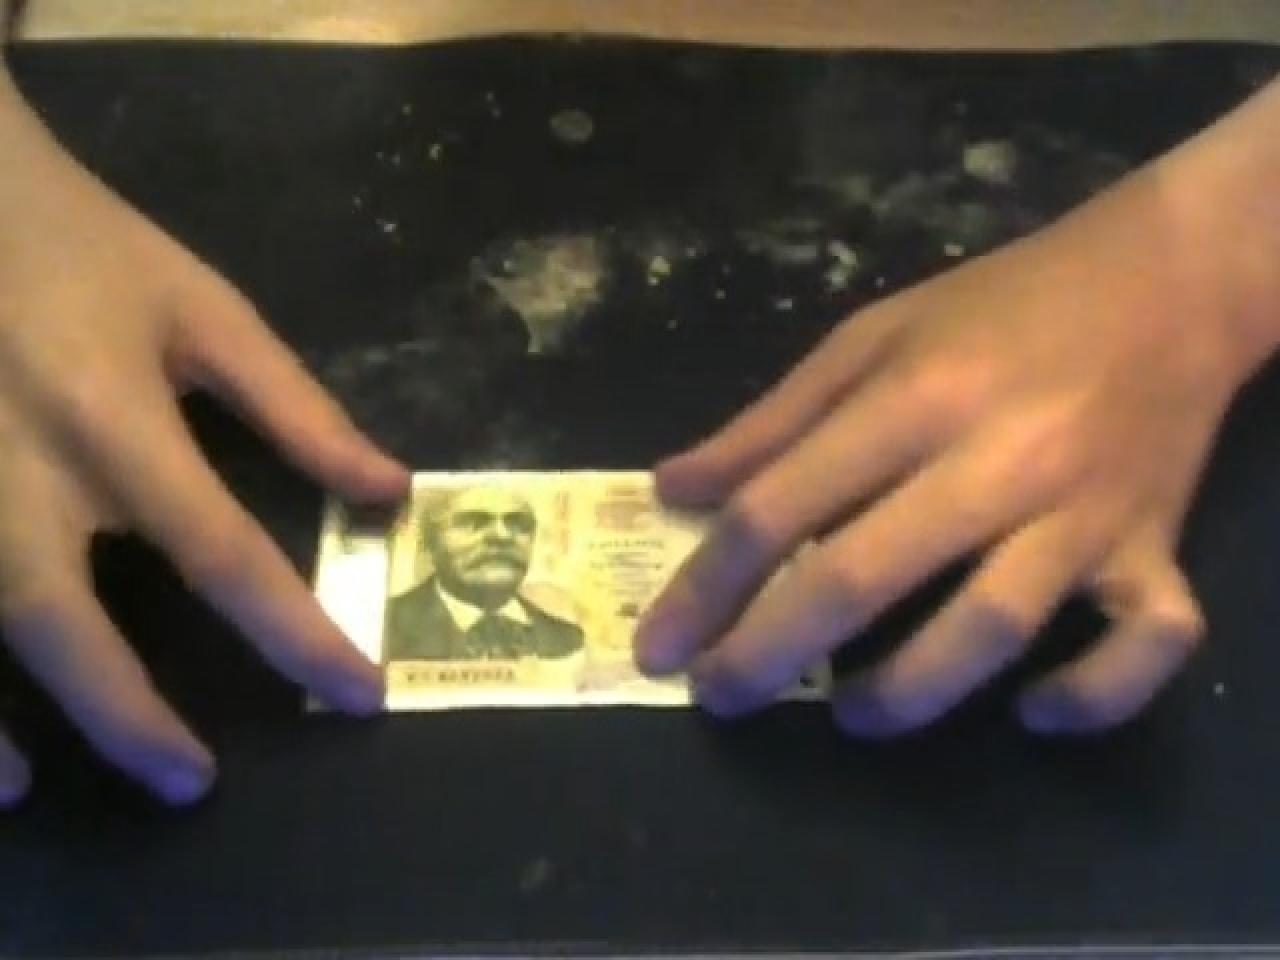10leva: (376, 469, 700, 712)
